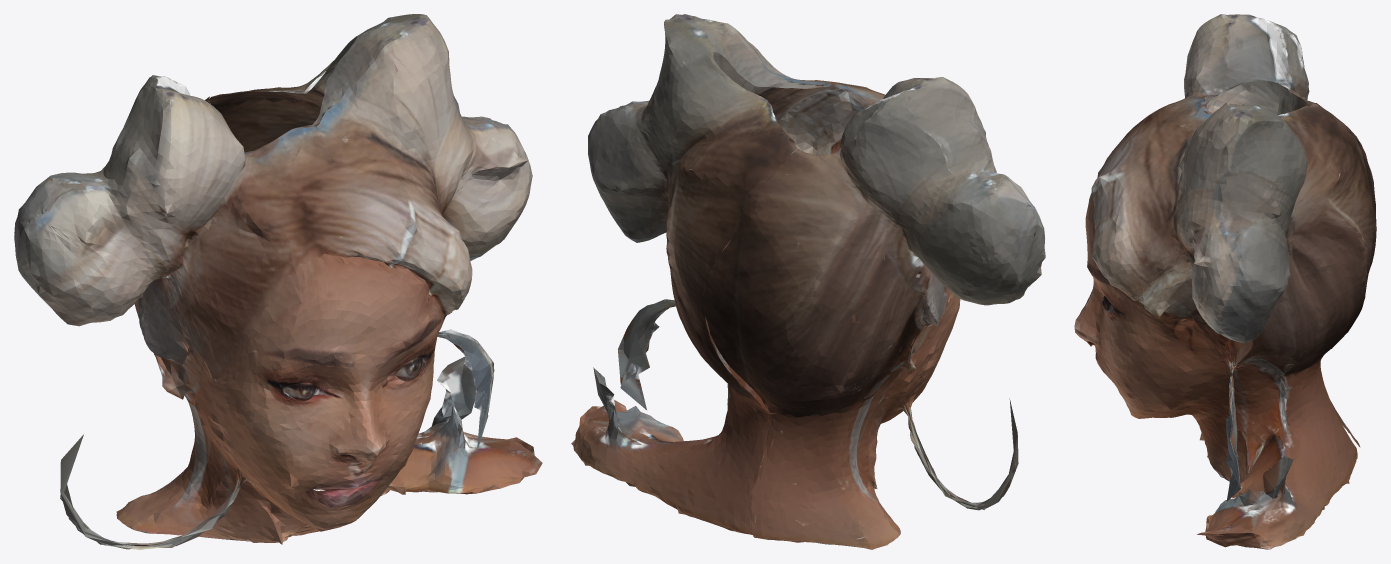
The picture shows the model from 3 angles, left to right: view 1: azimuth 30°, elevation 25°; view 2: azimuth 150°, elevation 25°; view 3: azimuth 270°, elevation 25°; orthographic projection. The views are drawn at different scales.
Size of the model in its own units: 1.8 by 1.63 by 1.13.
1 material, 1 textured.
